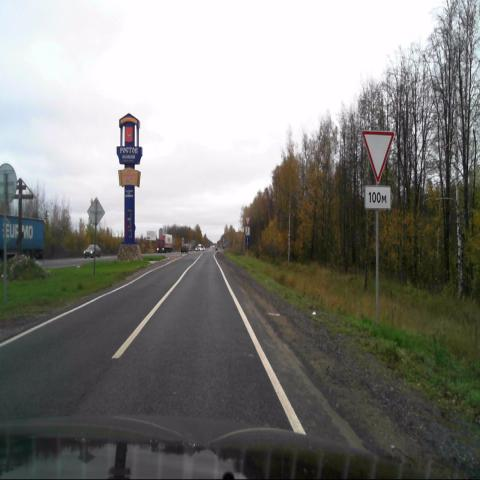8_1_1: (364, 186, 390, 209)
